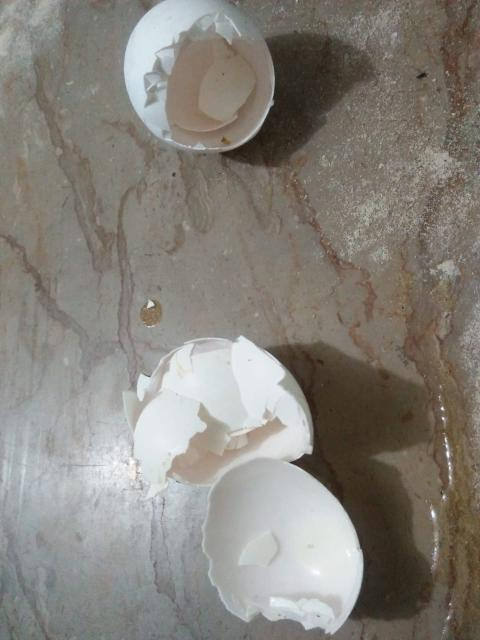Roto: (121, 334, 315, 486), (201, 456, 364, 634), (122, 1, 279, 154)
